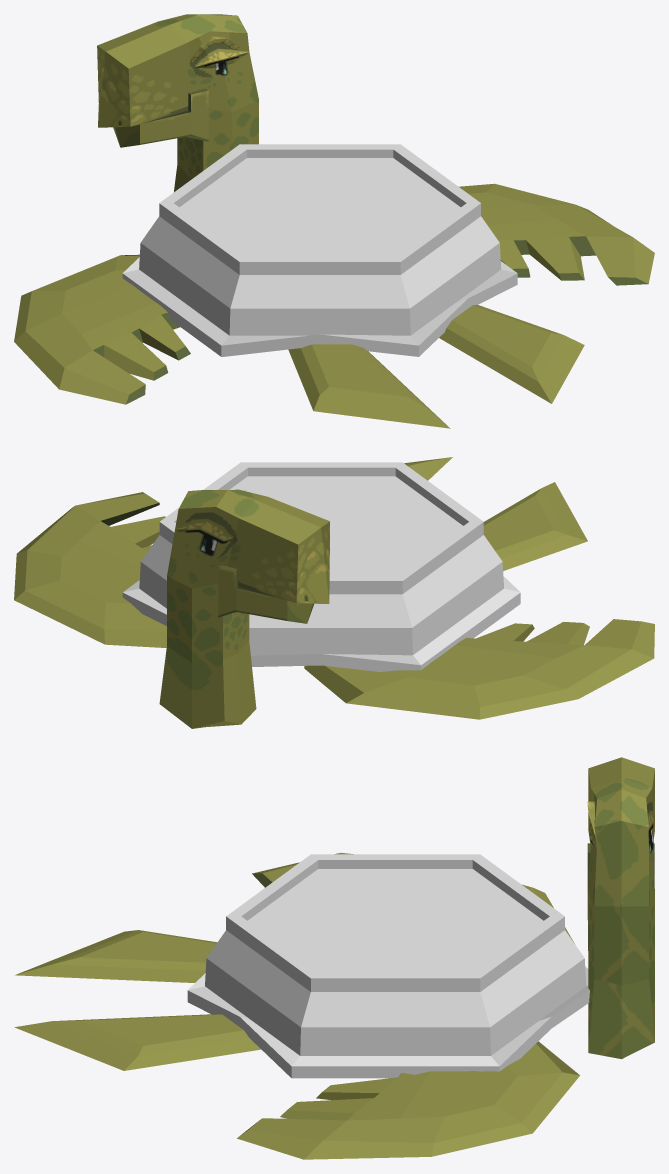
The model's file is turtle.fbx.
3 renders of one model, top to bottom at view 1: azimuth 30°, elevation 25°; view 2: azimuth 150°, elevation 25°; view 3: azimuth 270°, elevation 25°, orthographic. The views are drawn at different scales.
Visible parts, largest first — view 1: Cylinder, Head, Left wing, Right wing, Left leg, Right leg, Jaw; view 2: Cylinder, Head, Left wing, Right wing, Left leg, Jaw, Right leg; view 3: Cylinder, Right wing, Head, Right leg, Left leg, Left wing.
Boxes of the visible parts, <box> form: Cylinder: <box>122,144,517,356</box>; Head: <box>97,14,258,191</box>; Left wing: <box>14,254,190,404</box>; Right wing: <box>459,183,654,285</box>; Left leg: <box>288,344,450,428</box>; Right leg: <box>439,305,584,403</box>; Jaw: <box>113,88,208,147</box>; Cylinder: <box>122,462,520,671</box>; Head: <box>159,489,329,728</box>; Left wing: <box>304,619,654,719</box>; Right wing: <box>14,492,166,647</box>; Left leg: <box>483,482,587,570</box>; Jaw: <box>218,565,313,623</box>; Right leg: <box>404,457,452,480</box>; Cylinder: <box>187,854,589,1078</box>; Right wing: <box>237,1041,579,1159</box>; Head: <box>587,757,654,1059</box>; Right leg: <box>14,1014,260,1070</box>; Left leg: <box>15,930,217,982</box>; Left wing: <box>252,852,574,943</box>.
Bounding box in the file's own units: 892 × 350 × 801.
